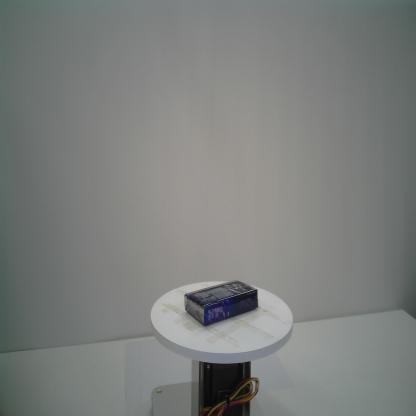Gum: (184, 278, 258, 327)
